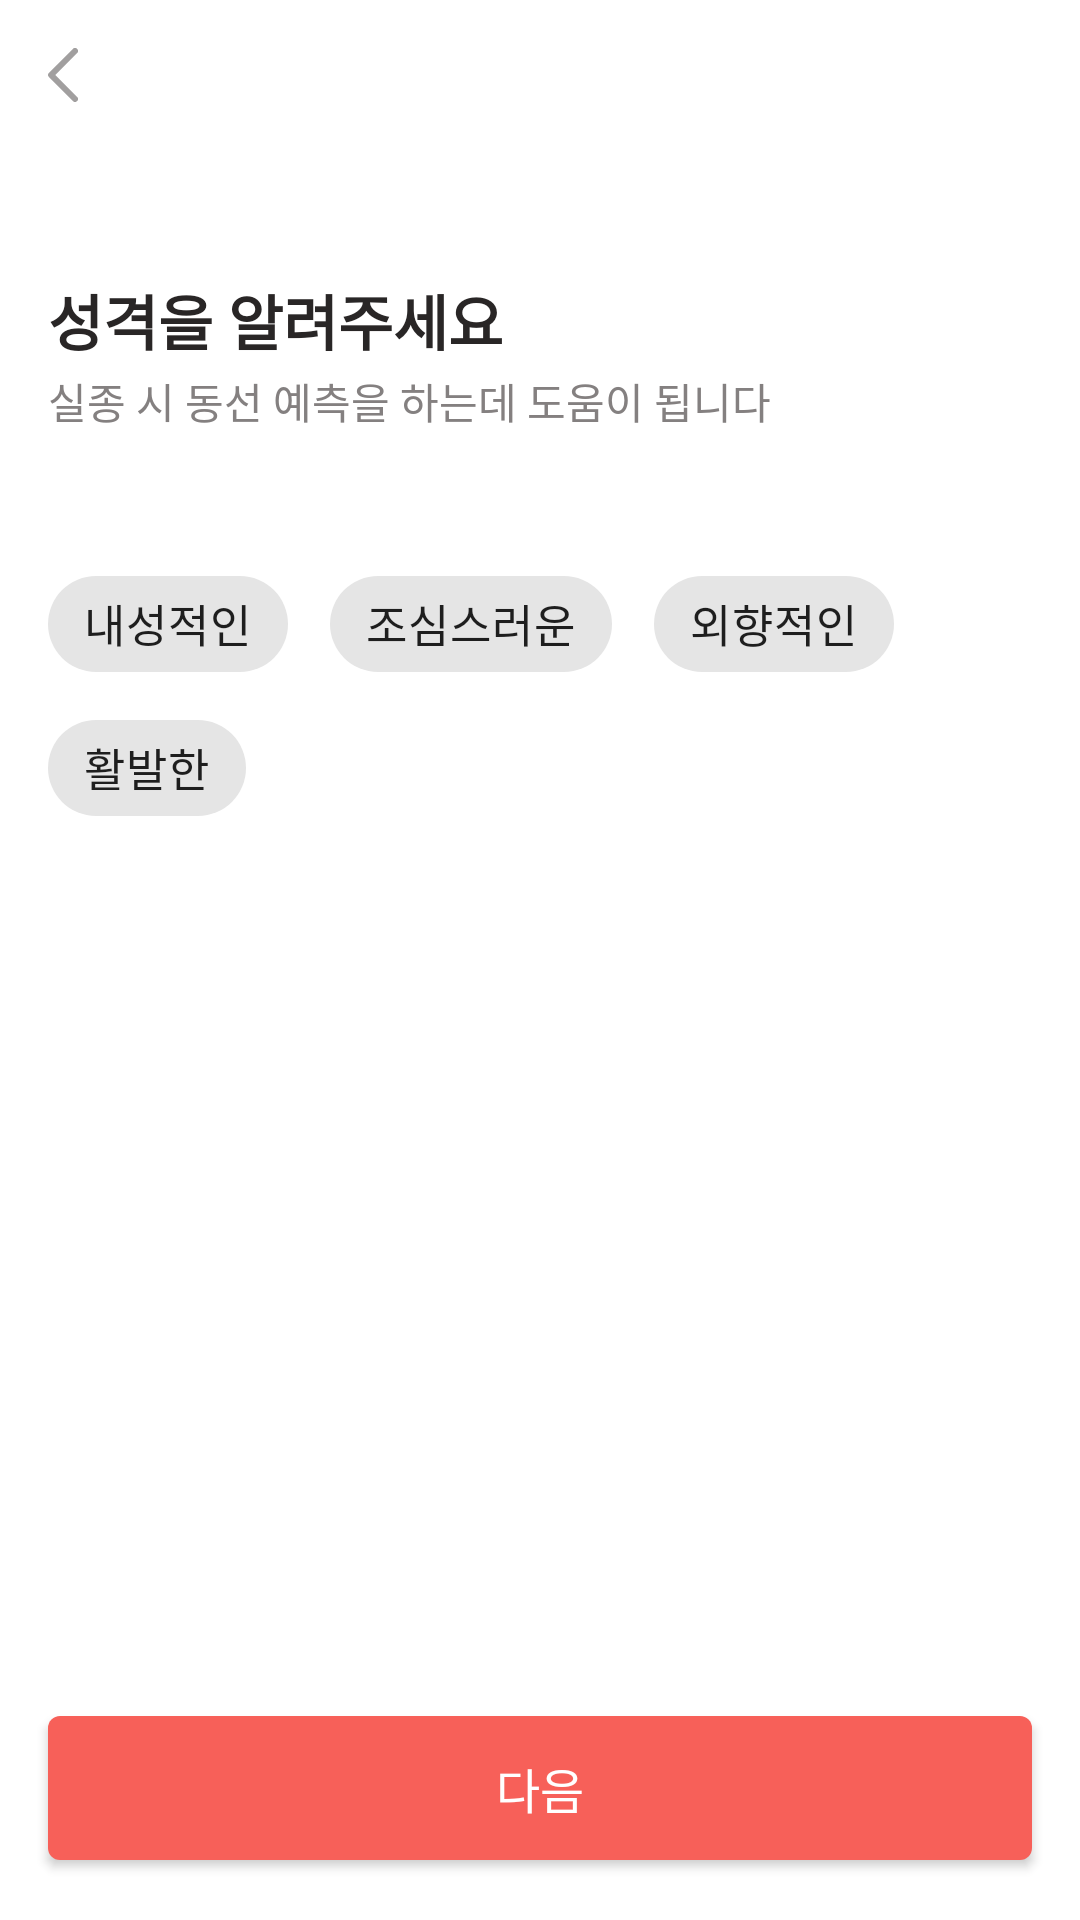

Where icons sit on this 1080×1920 app screen, as (x1, y1, x2, y2):
back: (48, 48, 78, 102)
